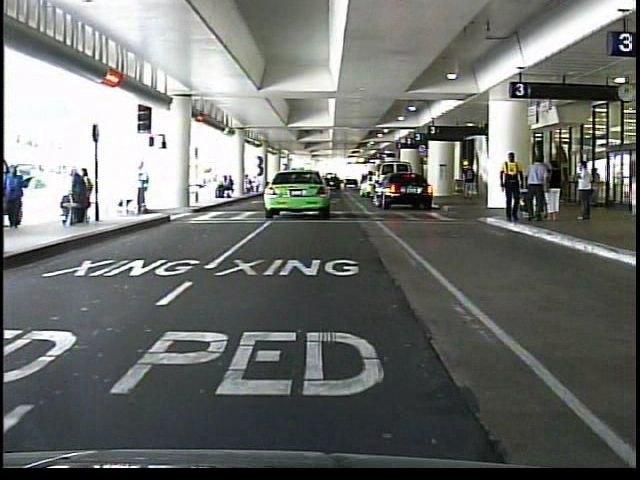person: (494, 150, 525, 229), (569, 156, 600, 228), (8, 162, 41, 227), (124, 159, 155, 223), (524, 150, 547, 227), (545, 158, 561, 226), (460, 160, 481, 204)
